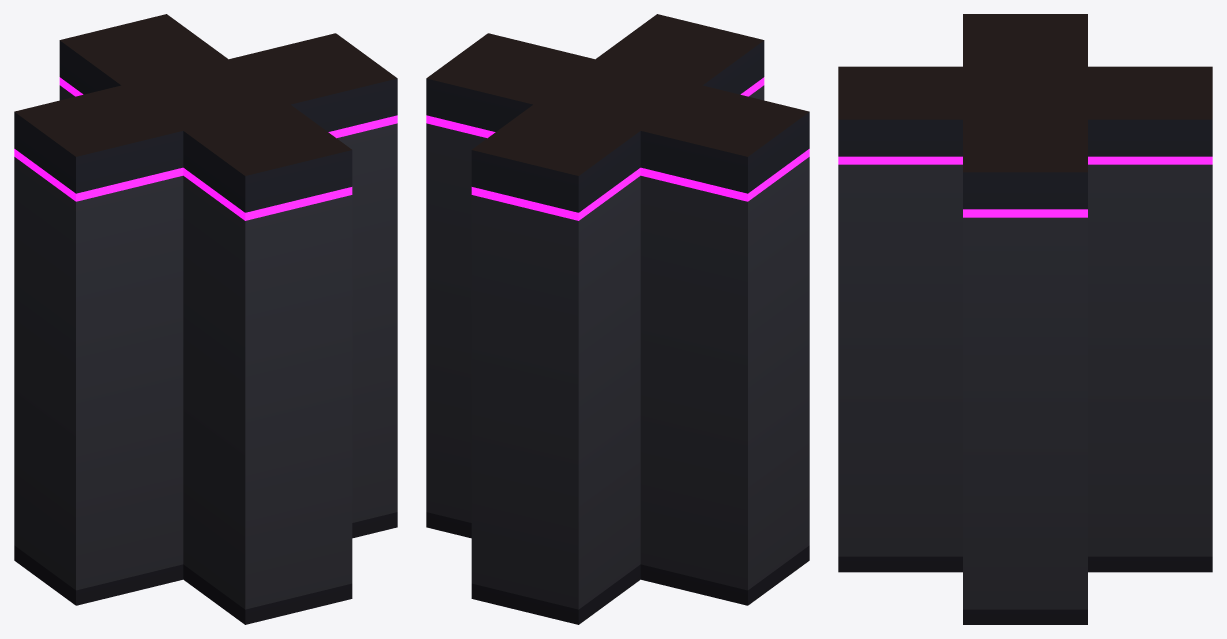
Rendered from WallPlus3.fbx.
3 views of the same model, side by side, from view 1: azimuth 30°, elevation 25°; view 2: azimuth 150°, elevation 25°; view 3: azimuth 270°, elevation 25° (orthographic).
Parts seen in each view (by area): view 1: WallPlus3; view 2: WallPlus3; view 3: WallPlus3.
Part boxes in pixels (<box>): WallPlus3: <box>14,14,397,624</box>; WallPlus3: <box>426,14,809,624</box>; WallPlus3: <box>838,14,1212,624</box>.
Bounding box in the file's own units: 300 × 400 × 300.
